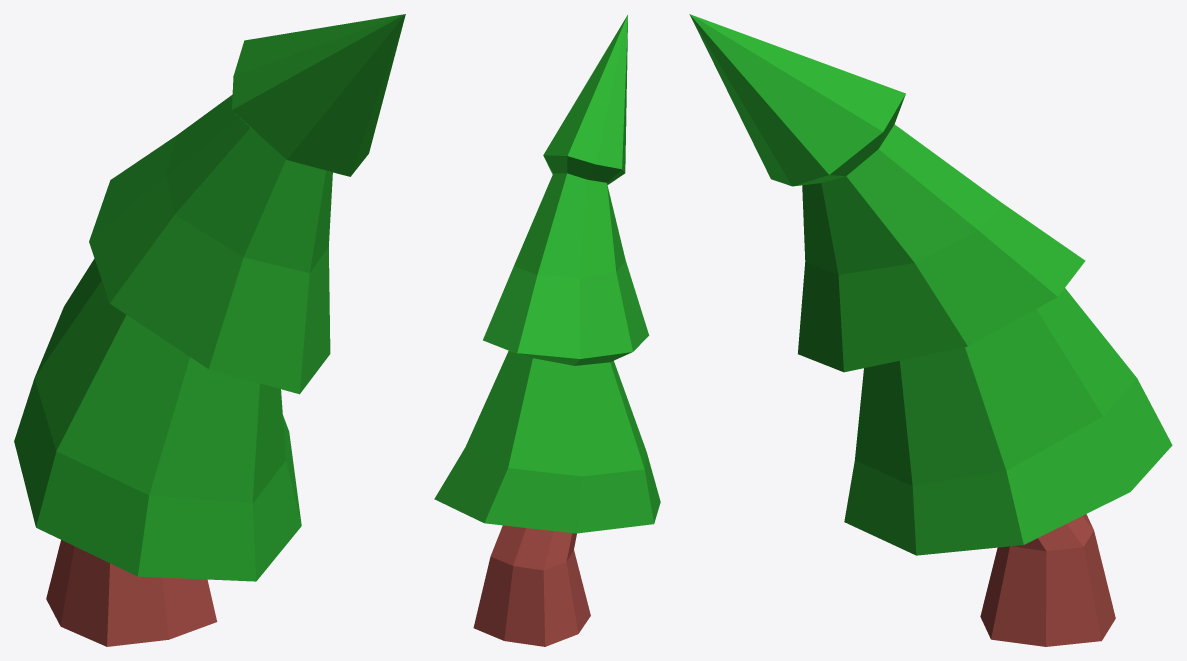
Rendered from PineB.fbx.
The picture shows the model from 3 angles, left to right: view 1: azimuth 30°, elevation 25°; view 2: azimuth 150°, elevation 25°; view 3: azimuth 270°, elevation 25°; orthographic projection. The views are drawn at different scales.
Visible parts, largest first — view 1: Cube.020, Cube.022; view 2: Cube.020, Cube.022; view 3: Cube.020, Cube.022.
Boxes of the visible parts, bbox=[...] form: Cube.020: bbox=[14, 14, 405, 581]; Cube.022: bbox=[46, 540, 217, 646]; Cube.020: bbox=[434, 15, 660, 533]; Cube.022: bbox=[473, 525, 590, 646]; Cube.020: bbox=[689, 14, 1172, 555]; Cube.022: bbox=[980, 514, 1115, 646].
Size of the model in its own units: 137 by 341 by 236.
